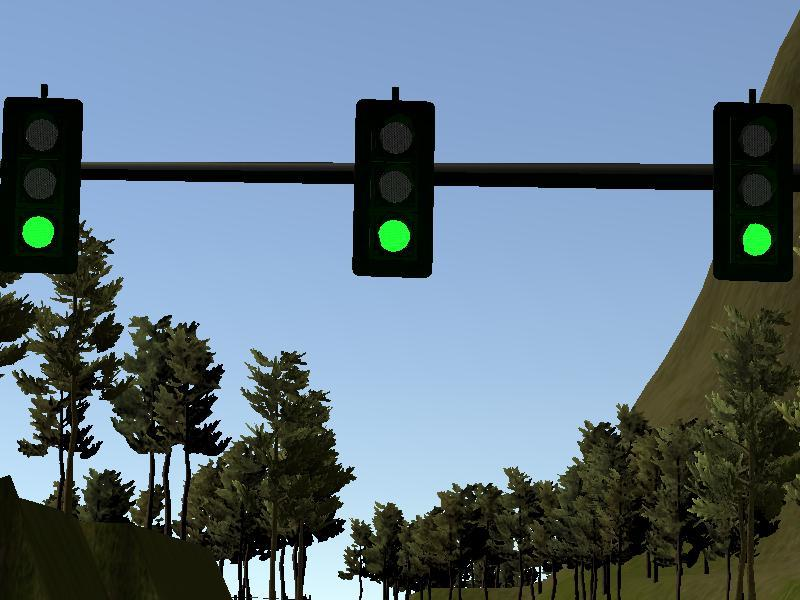Green: (717, 103, 793, 282), (357, 104, 430, 273), (4, 101, 76, 265)
